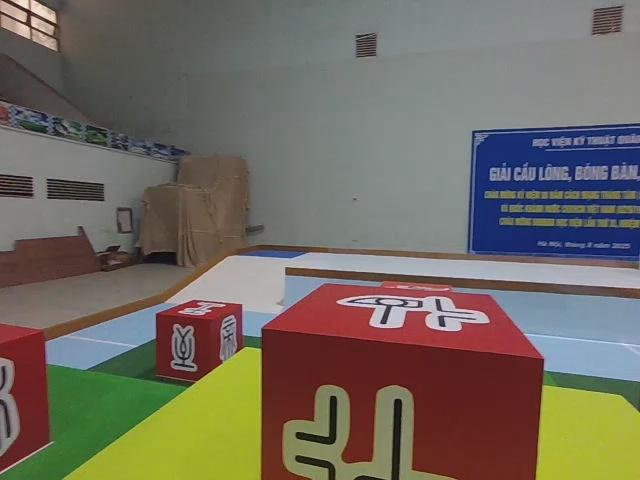R2 Fake: (149, 292, 243, 389)
R2 Real: (258, 285, 543, 480)
